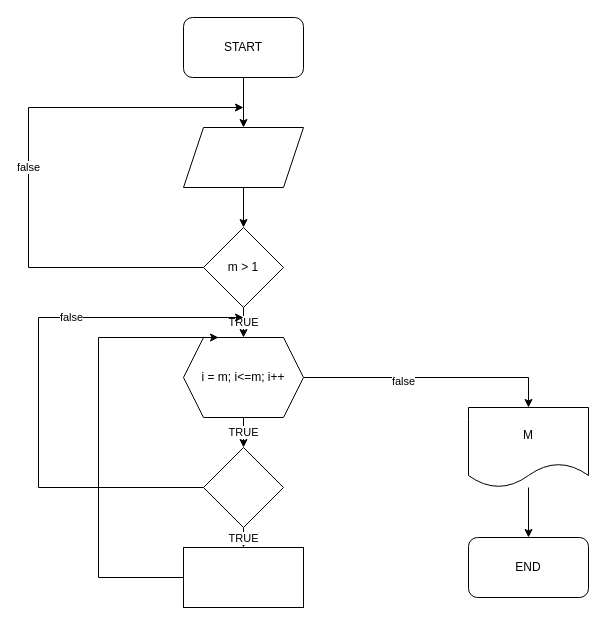
The diagram is 606 pixels wide and 625 high, and some of its shapes have lost their labels. Here are the shapes that lost their labels. From the top down, the centre of each, then its label:
At (243,157): "read m m".
At (243,487): "i%2 == 0".
At (243,577): "M= M*i".
